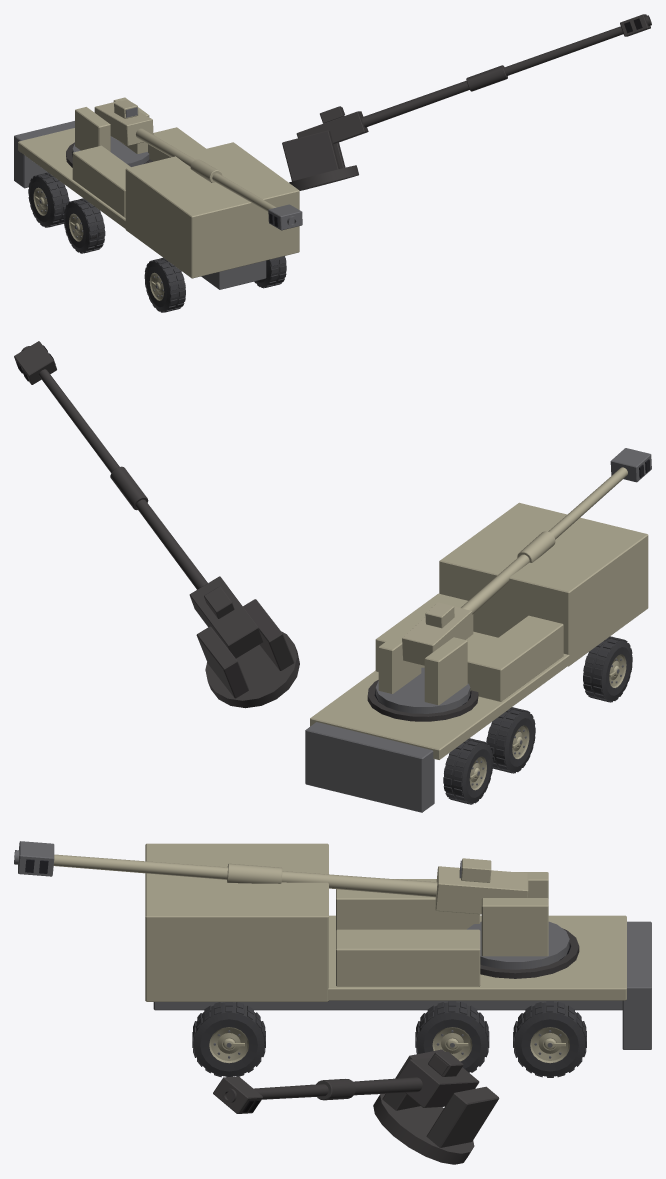
The model's file is wheeledHowitzer__pcl_181.glb.
3 renders of one model, top to bottom at view 1: azimuth 30°, elevation 25°; view 2: azimuth 150°, elevation 25°; view 3: azimuth 270°, elevation 25°, orthographic. The views are drawn at different scales.
Parts seen in each view (by area): view 1: Hull_Mesh, Wreck, Gun_Mesh, Turret_Mesh, Wheel_L1_Mesh, Wheel_L2_Mesh, Wheel_L0_Mesh, Wheel_R2_Mesh; view 2: Hull_Mesh, Wreck, Gun_Mesh, Turret_Mesh, Wheel_L0_Mesh, Wheel_L2_Mesh, Wheel_L1_Mesh; view 3: Hull_Mesh, Wreck, Gun_Mesh, Turret_Mesh, Wheel_R0_Mesh, Wheel_R2_Mesh, Wheel_R1_Mesh.
Boxes of the visible parts, box(x1,y1,x2,y2) form: Hull_Mesh: box(14, 121, 299, 289); Wreck: box(31, 14, 651, 286); Gun_Mesh: box(94, 99, 302, 230); Turret_Mesh: box(72, 97, 149, 166); Wheel_L1_Mesh: box(63, 198, 105, 253); Wheel_L2_Mesh: box(144, 257, 185, 312); Wheel_L0_Mesh: box(28, 172, 69, 227); Wheel_R2_Mesh: box(254, 256, 286, 288); Hull_Mesh: box(305, 502, 648, 812); Wreck: box(14, 341, 621, 771); Gun_Mesh: box(402, 448, 651, 665); Turret_Mesh: box(375, 626, 470, 713); Wheel_L0_Mesh: box(443, 738, 493, 804); Wheel_L2_Mesh: box(583, 636, 632, 702); Wheel_L1_Mesh: box(486, 707, 535, 773); Hull_Mesh: box(145, 843, 651, 1049); Wreck: box(206, 928, 579, 1164); Gun_Mesh: box(14, 841, 528, 914); Turret_Mesh: box(467, 872, 569, 969); Wheel_R0_Mesh: box(513, 1001, 586, 1077); Wheel_R2_Mesh: box(192, 1002, 265, 1077); Wheel_R1_Mesh: box(415, 1001, 489, 1072).
Size of what is drawn, in the model's own units: 11.37 by 3.93 by 9.14.
